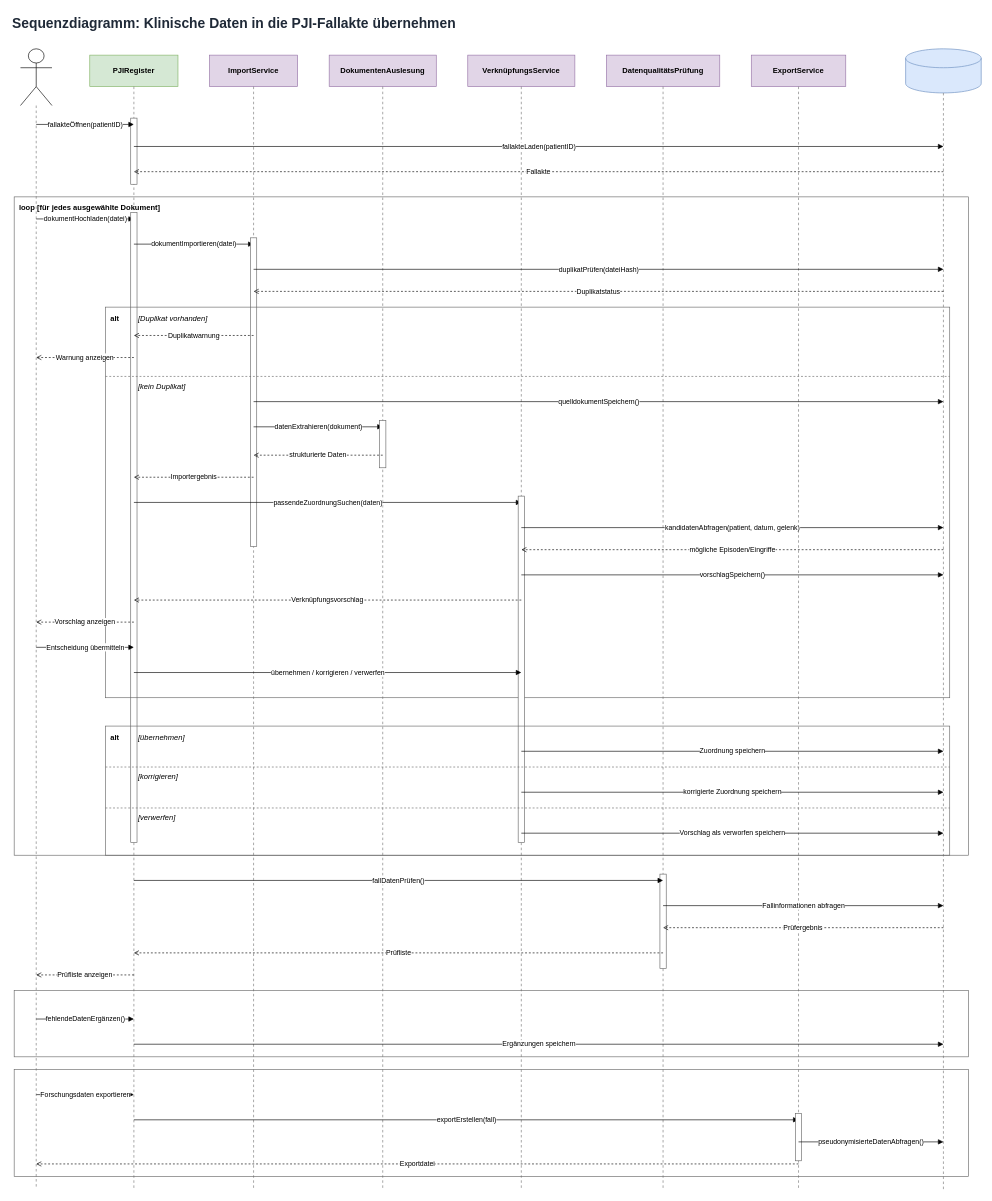
The diagram is 992 pixels wide and 1201 high, and some of its shapes have lost their labels. The shapes that lost their labels are listed below. From the top down, each one's centre as x and y in pixels, then its label:
(36,77): Bearbeiter
(943,70): Datenbank
(491,1023): opt [fehlende Daten vorhanden und werden ergänzt]
(491,1123): opt [Forschungsdaten werden benötigt]
